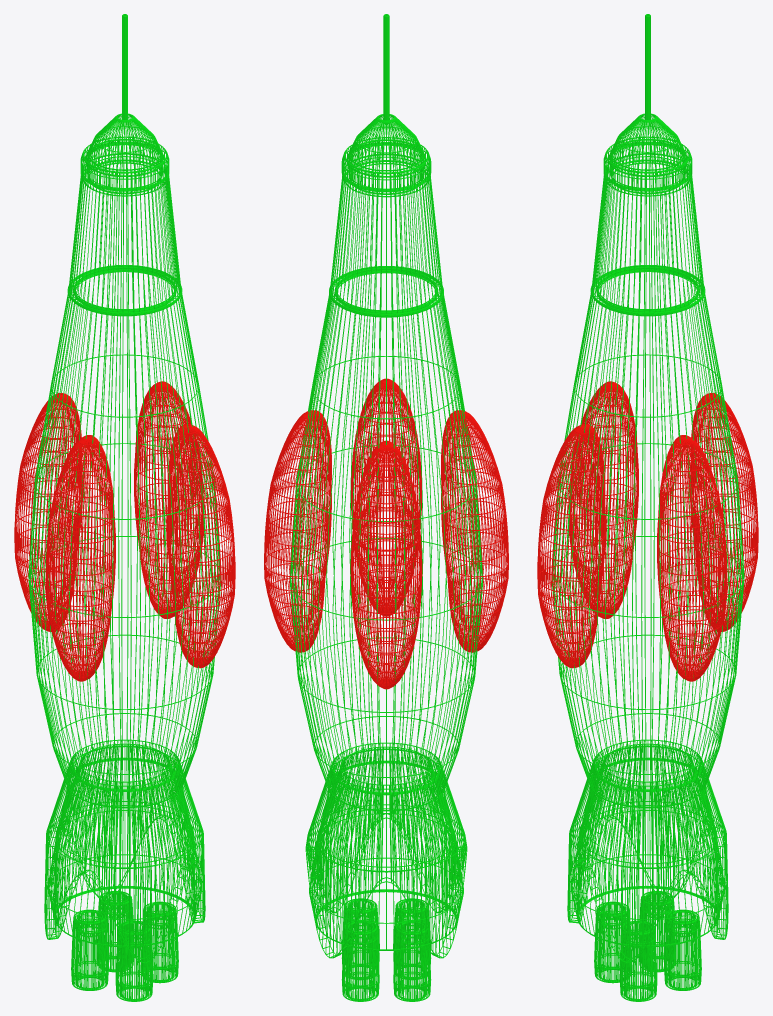
Rendered from anti-virus-missile-highlight-anti-viral-payload-pods.glb.
3 views of the same model, side by side, from view 1: azimuth 30°, elevation 25°; view 2: azimuth 150°, elevation 25°; view 3: azimuth 270°, elevation 25° (orthographic).
Parts seen in each view (by area): view 1: chassis technical wire, anti-viral-payload-pods technical wire, nose-navigation-assembly technical wire, four-main-rocket-thrusters technical wire; view 2: chassis technical wire, anti-viral-payload-pods technical wire, nose-navigation-assembly technical wire, four-main-rocket-thrusters technical wire; view 3: chassis technical wire, anti-viral-payload-pods technical wire, nose-navigation-assembly technical wire, four-main-rocket-thrusters technical wire.
Part boxes in pixels (<box>): chassis technical wire: <box>28,272,220,963</box>; anti-viral-payload-pods technical wire: <box>14,381,235,681</box>; nose-navigation-assembly technical wire: <box>67,14,182,316</box>; four-main-rocket-thrusters technical wire: <box>71,891,178,1001</box>; chassis technical wire: <box>290,272,482,958</box>; anti-viral-payload-pods technical wire: <box>264,378,508,689</box>; nose-navigation-assembly technical wire: <box>329,14,443,317</box>; four-main-rocket-thrusters technical wire: <box>341,898,431,1001</box>; chassis technical wire: <box>552,272,744,963</box>; anti-viral-payload-pods technical wire: <box>537,381,758,681</box>; nose-navigation-assembly technical wire: <box>590,14,705,316</box>; four-main-rocket-thrusters technical wire: <box>594,891,701,1001</box>.
Bounding box in the file's own units: 1.26 × 6.07 × 1.26.
